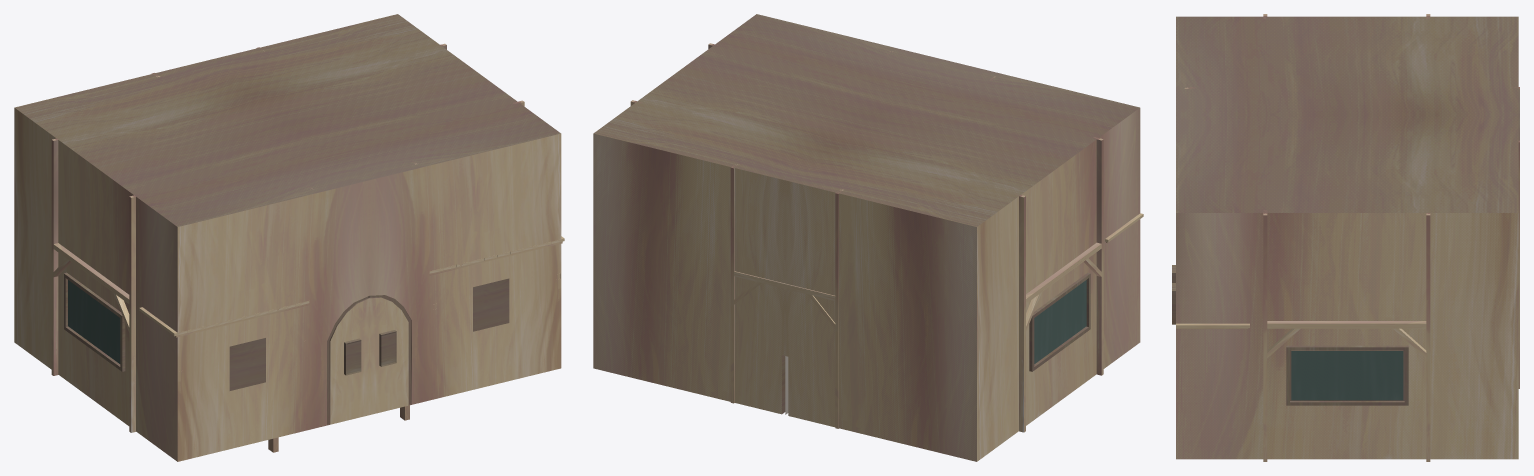
The model's file is Barn Interior.fbx.
3 renders of one model, left to right at view 1: azimuth 30°, elevation 25°; view 2: azimuth 150°, elevation 25°; view 3: azimuth 270°, elevation 25°, orthographic. The views are drawn at different scales.
Parts seen in each view (by area): view 1: Cube; view 2: Cube; view 3: Cube.
Boxes of the visible parts, left/top/right/bottom form: Cube: left=14, top=14, right=564, bottom=461; Cube: left=593, top=14, right=1143, bottom=461; Cube: left=1172, top=14, right=1519, bottom=461.
Bounding box in the file's own units: 2361 × 1584 × 1724.
